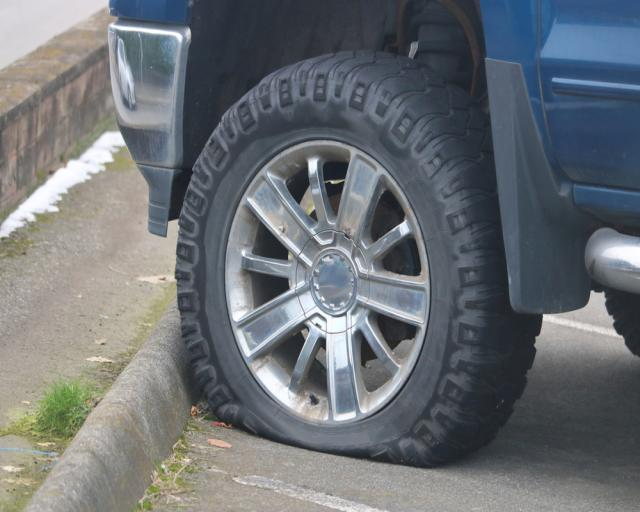tire flat: (176, 47, 542, 470)
